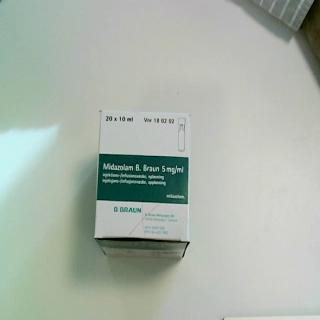midazolam5mg_ml: (93, 108, 193, 266)
